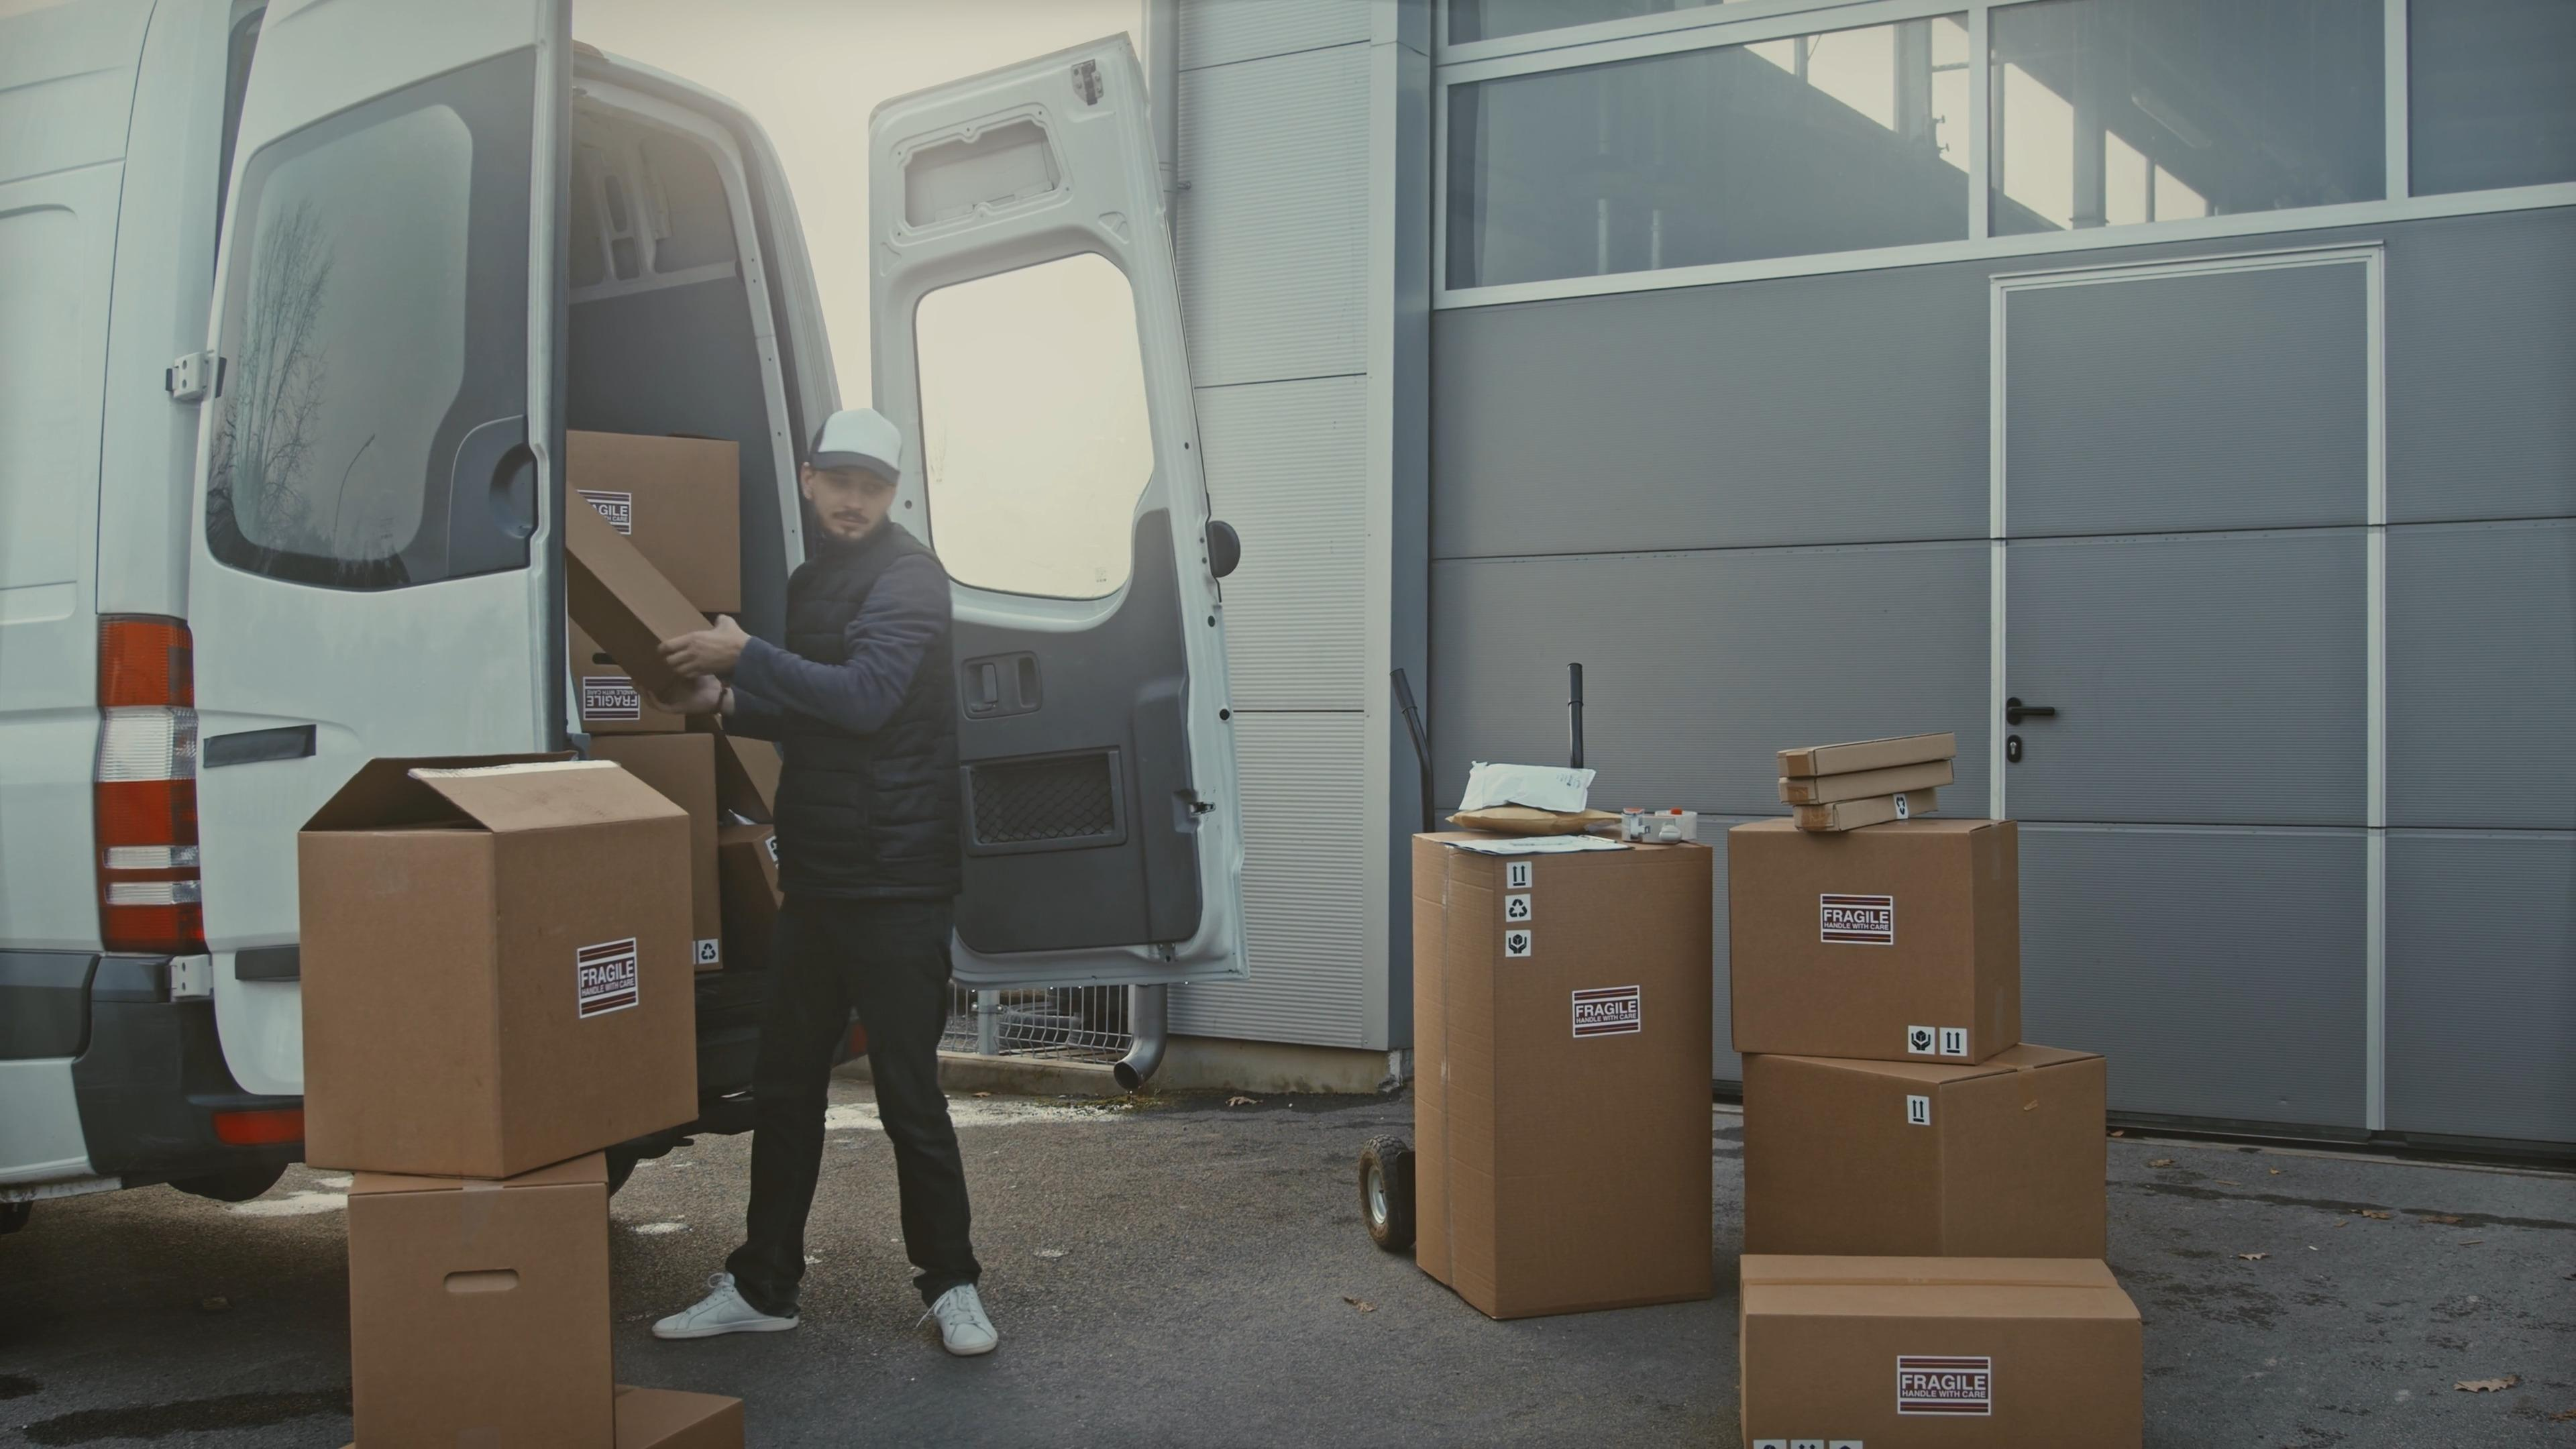-: (1389, 816, 1727, 1329), (310, 745, 681, 1178), (1737, 1253, 2153, 1449), (1736, 1044, 2112, 1260), (352, 1178, 614, 1449), (1736, 812, 2017, 1053), (571, 426, 743, 623), (554, 508, 718, 706), (1775, 734, 1953, 777), (1773, 761, 1953, 800), (1792, 791, 1943, 826)
